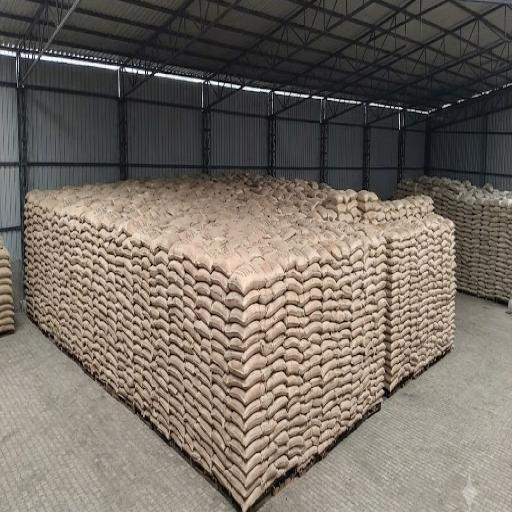Rice-bag-10: (228, 263, 268, 295), (229, 434, 269, 463), (229, 381, 266, 407), (228, 354, 266, 378), (231, 409, 267, 433), (230, 304, 266, 327), (225, 320, 260, 340), (226, 290, 259, 309), (259, 261, 284, 286), (266, 397, 289, 418), (266, 295, 285, 316), (266, 321, 285, 340), (302, 263, 321, 280), (303, 276, 321, 291), (259, 288, 275, 304), (272, 307, 285, 322)
other: (0, 0, 511, 300), (255, 295, 511, 511), (0, 313, 238, 511)
pile: (25, 174, 456, 511), (356, 192, 455, 393), (399, 176, 511, 300), (0, 237, 14, 332)
